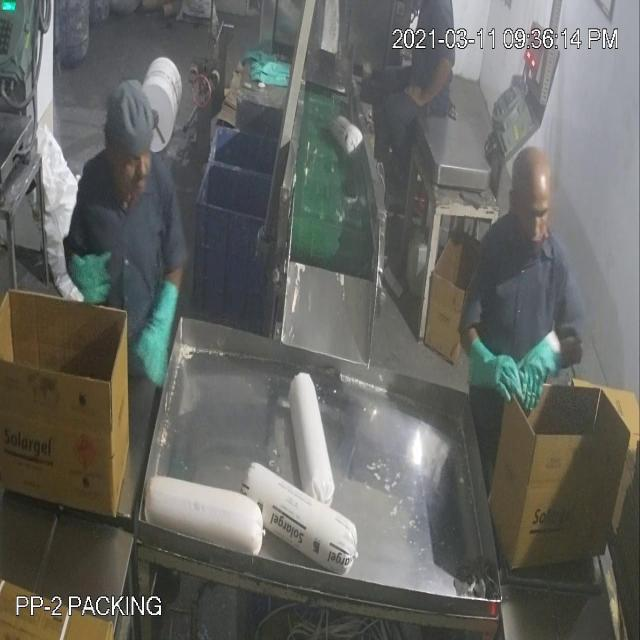Gloves: (62, 60, 541, 380)
